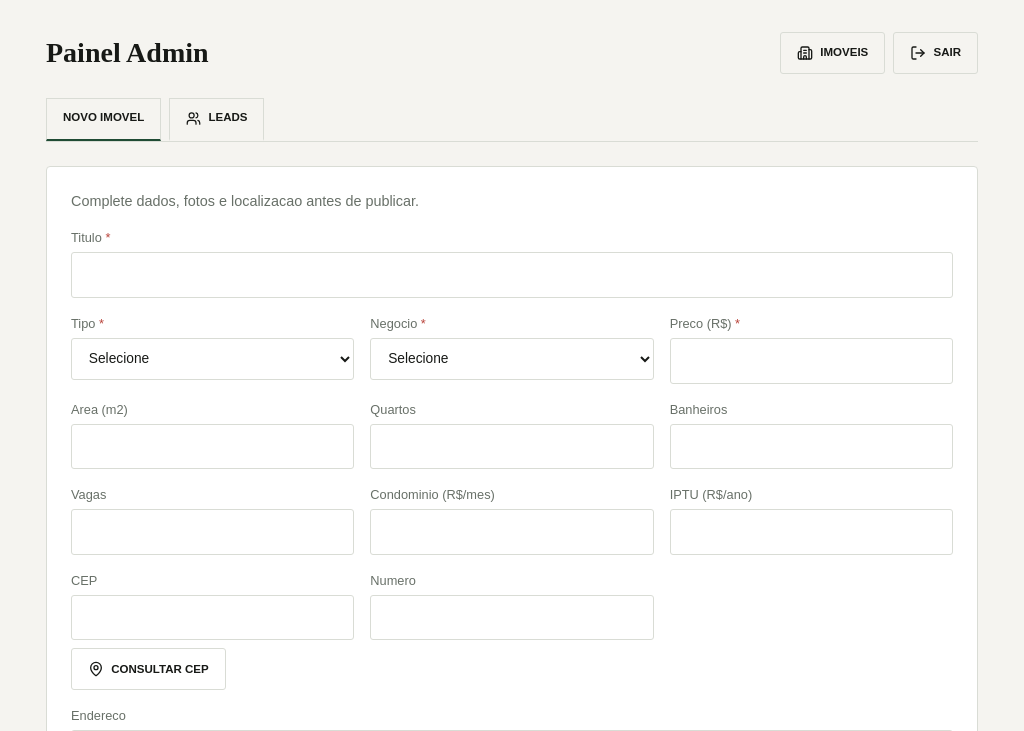
Test: AdminPage › reaproveita sessao existente e permite logout
This screenshot has width=1024, height=731.
Click the button "Sair".
click(936, 53)  # box 893,32 -> 978,74
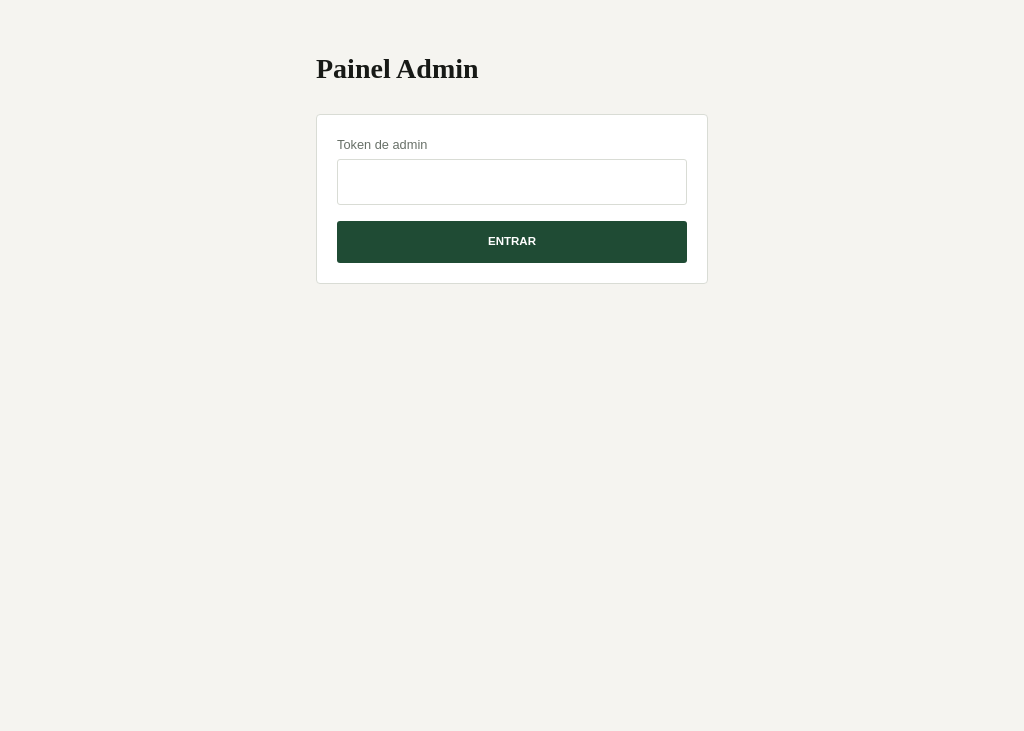
Result: the password field labelled "Token de admin" is shown at 337,159 -> 687,205
